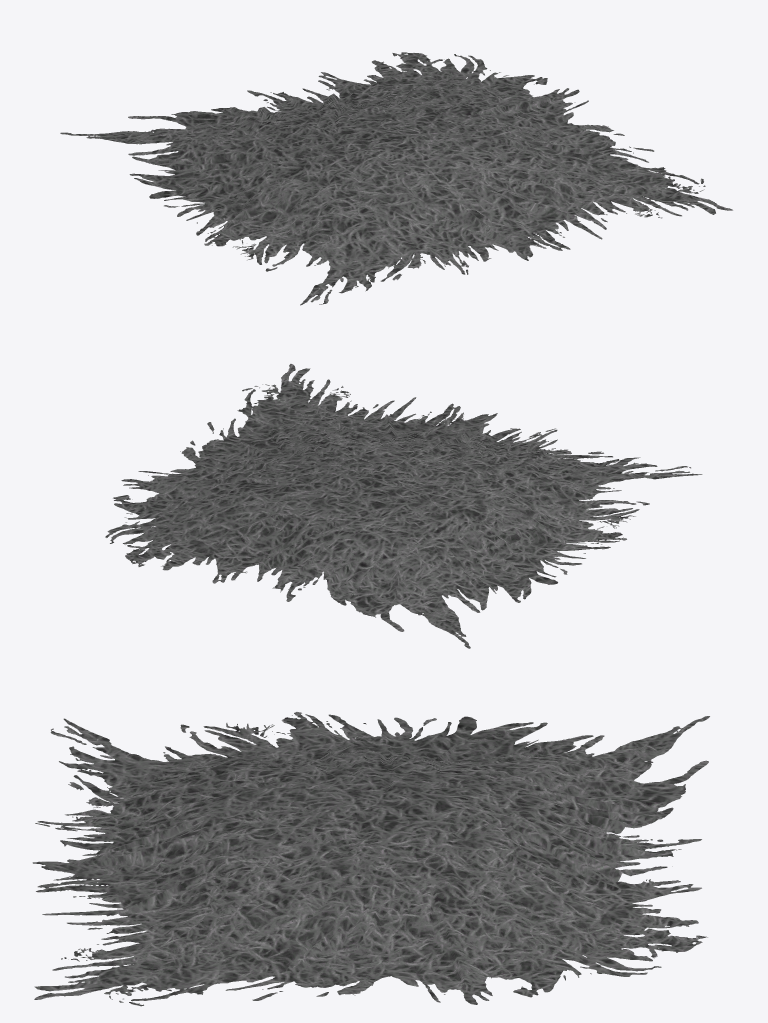
The model's file is uc_grass_undergrowth.dae.
The picture shows the model from 3 angles, top to bottom: view 1: azimuth 30°, elevation 25°; view 2: azimuth 150°, elevation 25°; view 3: azimuth 270°, elevation 25°; orthographic projection. The views are drawn at different scales.
Parts seen in each view (by area): view 1: Mesh; view 2: Mesh; view 3: Mesh.
Boxes of the visible parts, x1=… form: Mesh: x1=60, y1=52, x2=732, y2=305; Mesh: x1=105, y1=364, x2=702, y2=648; Mesh: x1=32, y1=712, x2=709, y2=1006.
Size of the model in its own units: 1.01 by 0.0592 by 1.02.
